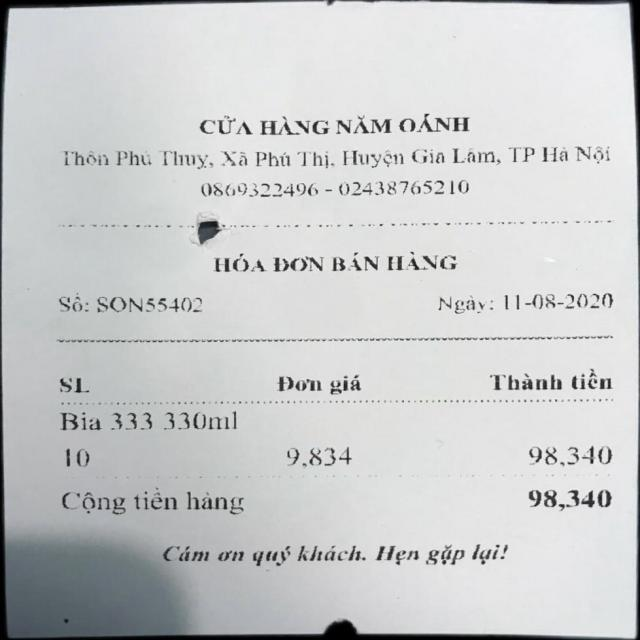Date: (498, 283, 615, 315)
Store_Name: (177, 96, 489, 142)
amount_number: (520, 482, 620, 512)
label_total: (60, 486, 247, 522)
